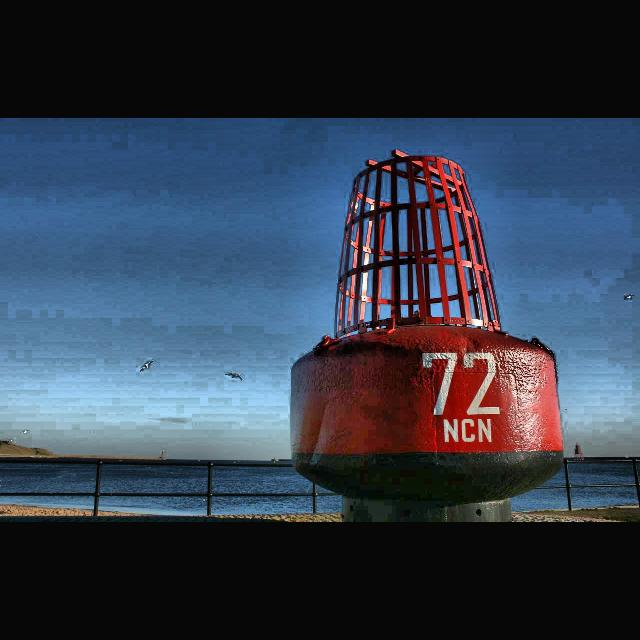buoy: (288, 148, 566, 520)
